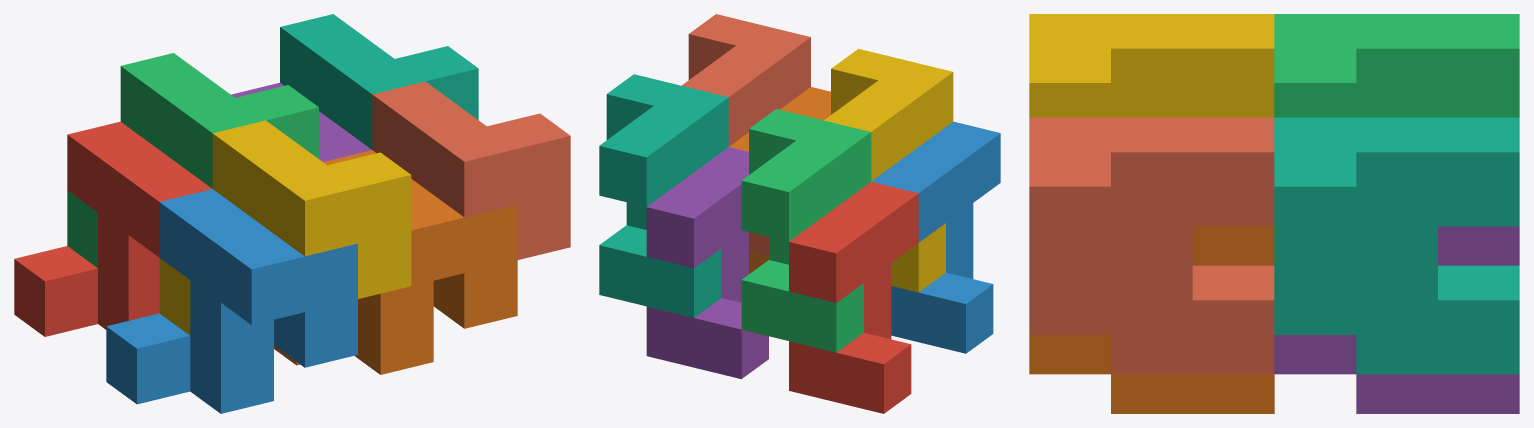
Rendered from tiling.obj.
The picture shows the model from 3 angles, left to right: view 1: azimuth 30°, elevation 25°; view 2: azimuth 150°, elevation 25°; view 3: azimuth 270°, elevation 25°; orthographic projection. The views are drawn at different scales.
Parts seen in each view (by area): view 1: copy_1_domain_2, copy_1_domain_4, copy_1_domain_1, copy_1_domain_8, copy_1_domain_6, copy_1_domain_3, copy_1_domain_7, copy_1_domain_5; view 2: copy_1_domain_7, copy_1_domain_3, copy_1_domain_1, copy_1_domain_5, copy_1_domain_2, copy_1_domain_4, copy_1_domain_8, copy_1_domain_6; view 3: copy_1_domain_7, copy_1_domain_8, copy_1_domain_3, copy_1_domain_4, copy_1_domain_6, copy_1_domain_5.
Boxes of the visible parts, left/top/right/bottom form: copy_1_domain_2: left=106, top=189, right=357, bottom=413; copy_1_domain_4: left=159, top=120, right=411, bottom=335; copy_1_domain_1: left=14, top=121, right=211, bottom=336; copy_1_domain_8: left=372, top=81, right=570, bottom=259; copy_1_domain_6: left=274, top=150, right=517, bottom=374; copy_1_domain_3: left=67, top=53, right=318, bottom=267; copy_1_domain_7: left=280, top=14, right=478, bottom=149; copy_1_domain_5: left=231, top=82, right=371, bottom=161; copy_1_domain_7: left=599, top=74, right=728, bottom=317; copy_1_domain_3: left=741, top=109, right=871, bottom=352; copy_1_domain_1: left=789, top=181, right=918, bottom=413; copy_1_domain_5: left=646, top=147, right=768, bottom=379; copy_1_domain_2: left=871, top=121, right=1000, bottom=353; copy_1_domain_4: left=824, top=48, right=953, bottom=292; copy_1_domain_8: left=681, top=14, right=810, bottom=255; copy_1_domain_6: left=729, top=87, right=830, bottom=273; copy_1_domain_7: left=1274, top=117, right=1519, bottom=374; copy_1_domain_8: left=1029, top=117, right=1274, bottom=374; copy_1_domain_3: left=1274, top=14, right=1519, bottom=117; copy_1_domain_4: left=1029, top=14, right=1274, bottom=117; copy_1_domain_6: left=1029, top=226, right=1274, bottom=413; copy_1_domain_5: left=1274, top=226, right=1519, bottom=413.
Size of the model in its own units: 7 by 4 by 6.
